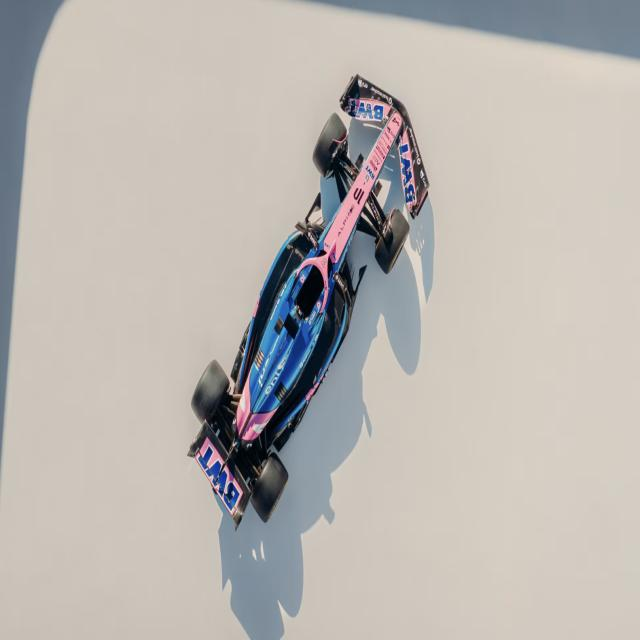Alpine: (187, 72, 431, 532)
